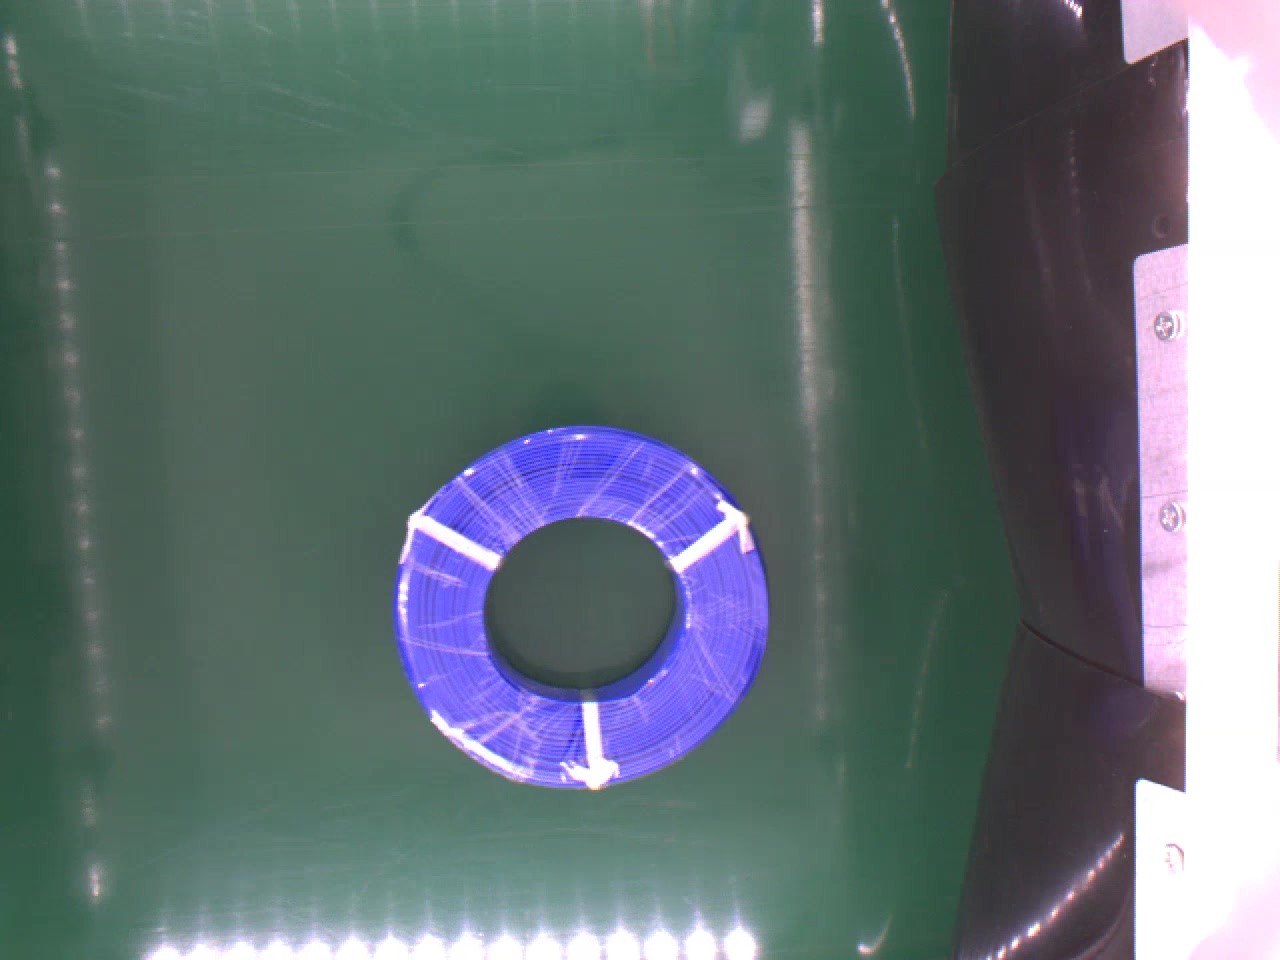blue: (384, 425, 771, 796)
